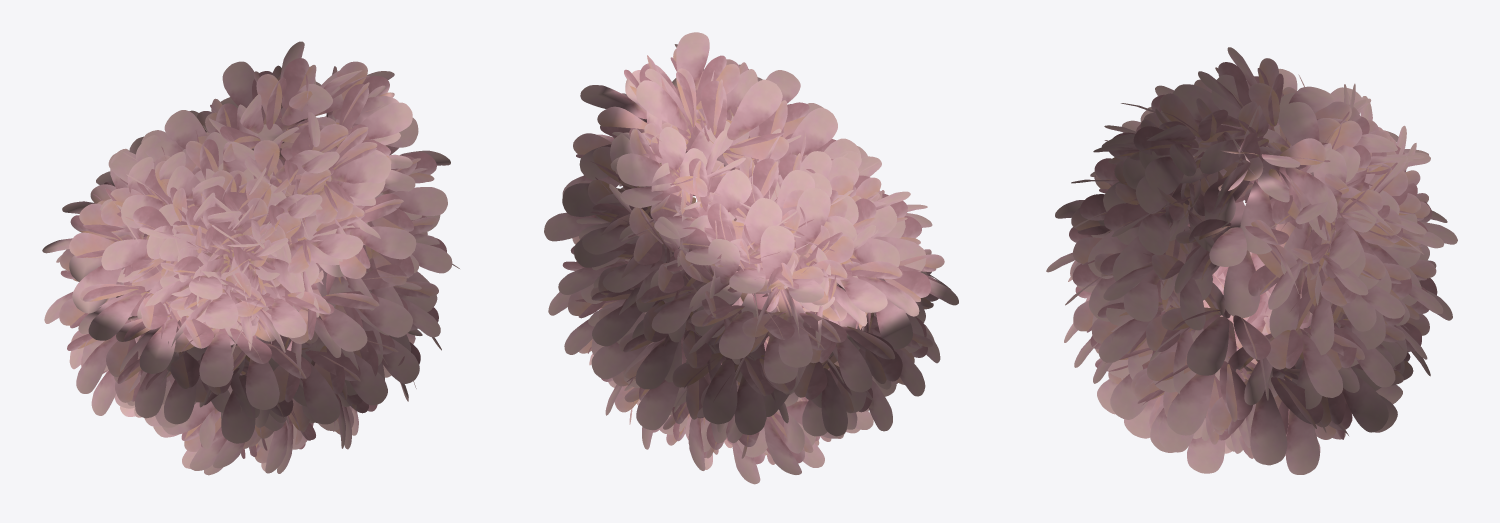
Rendered from Mesh_Foliage2_feuille.fbx.
3 renders of one model, left to right at view 1: azimuth 30°, elevation 25°; view 2: azimuth 150°, elevation 25°; view 3: azimuth 270°, elevation 25°, orthographic. The views are drawn at different scales.
Parts seen in each view (by area): view 1: Plane068; view 2: Plane068; view 3: Plane068.
Boxes of the visible parts, left/top/right/bottom form: Plane068: left=42, top=41, right=459, bottom=475; Plane068: left=544, top=32, right=958, bottom=484; Plane068: left=1046, top=47, right=1457, bottom=474.
Bounding box in the file's own units: 244 × 245 × 214.
